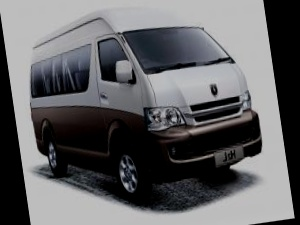van: (18, 0, 267, 205)
